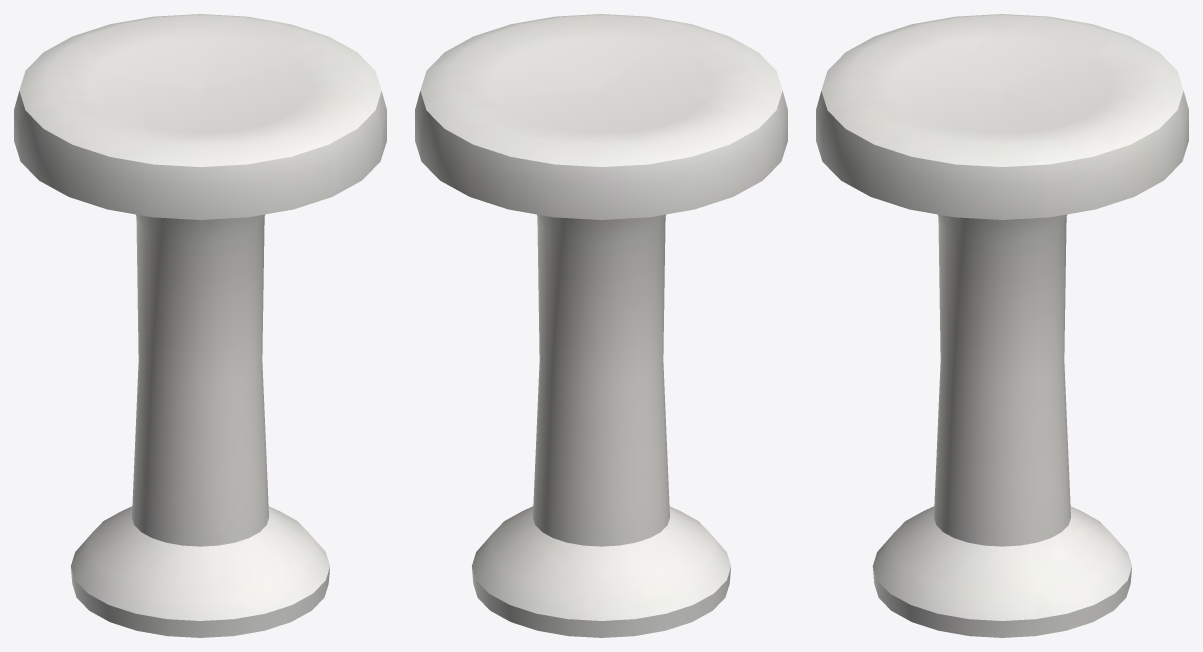
File: swim_stool.glb
3 renders of one model, left to right at view 1: azimuth 30°, elevation 25°; view 2: azimuth 150°, elevation 25°; view 3: azimuth 270°, elevation 25°, orthographic.
Visible parts, largest first — view 1: swim_stool; view 2: swim_stool; view 3: swim_stool.
Part boxes in pixels (box(x1,y1,x2,y2)): swim_stool: box(14, 14, 386, 637); swim_stool: box(415, 14, 787, 637); swim_stool: box(816, 14, 1188, 637).
Size of the model in its own units: 0.5 by 0.745 by 0.5.
Materials: 1 (1 with a texture image).
